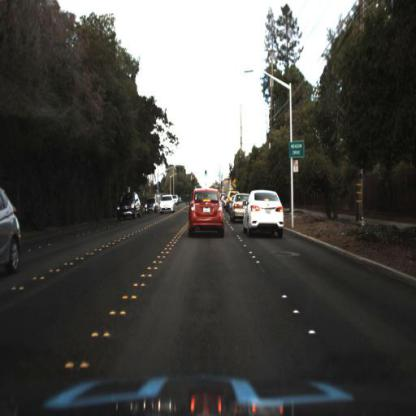car: (1, 184, 25, 280), (241, 187, 286, 238), (189, 187, 227, 241), (116, 190, 143, 222), (231, 191, 250, 223), (158, 192, 179, 217), (144, 194, 160, 219)
